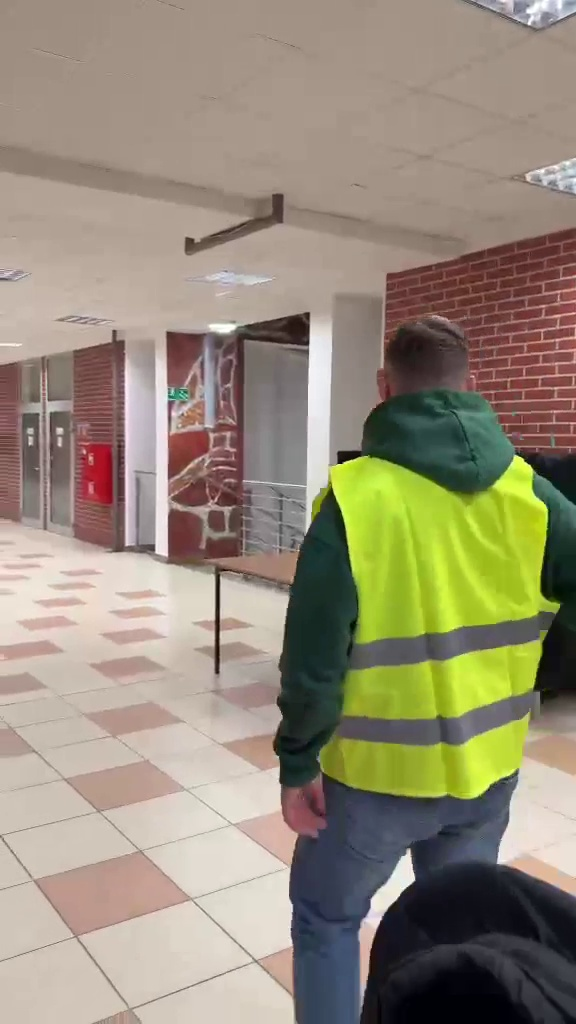vest: (268, 310, 576, 1000)
